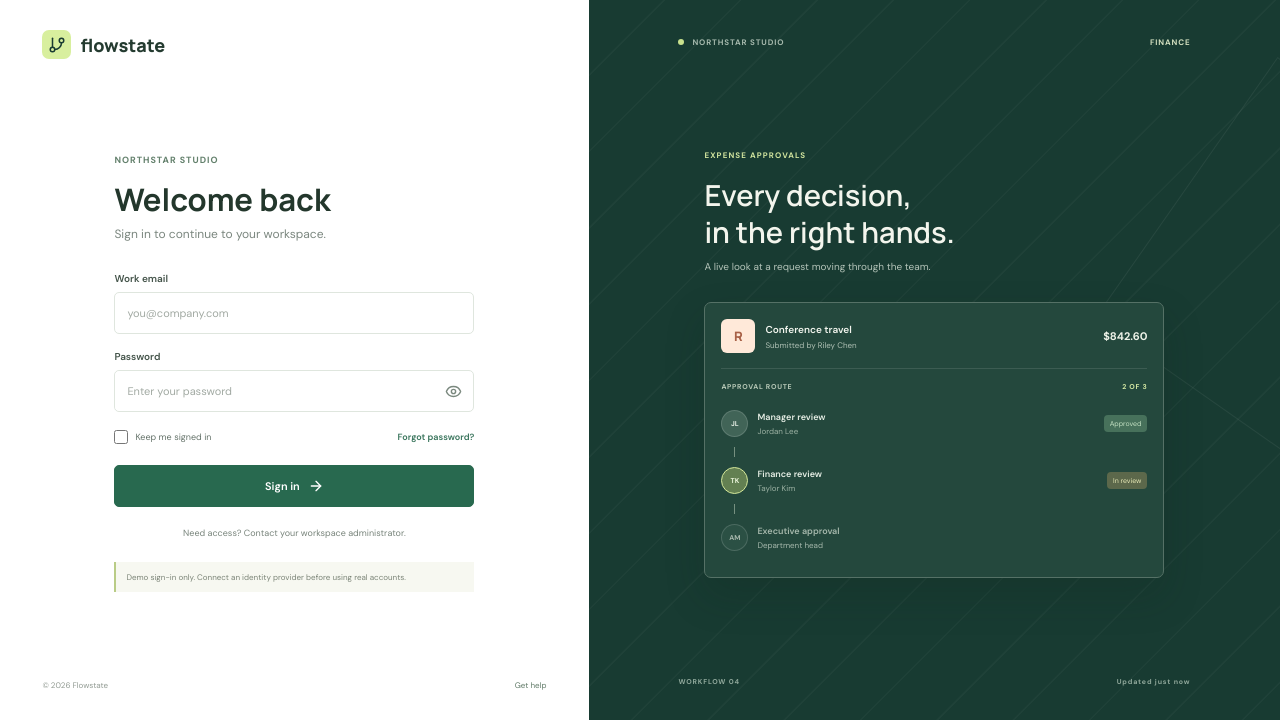
Test: login screen › toggles password visibility
The width and height of the screenshot is (1280, 720).
Click the button named "Show password": x=454, y=391 [434, 371, 473, 411]
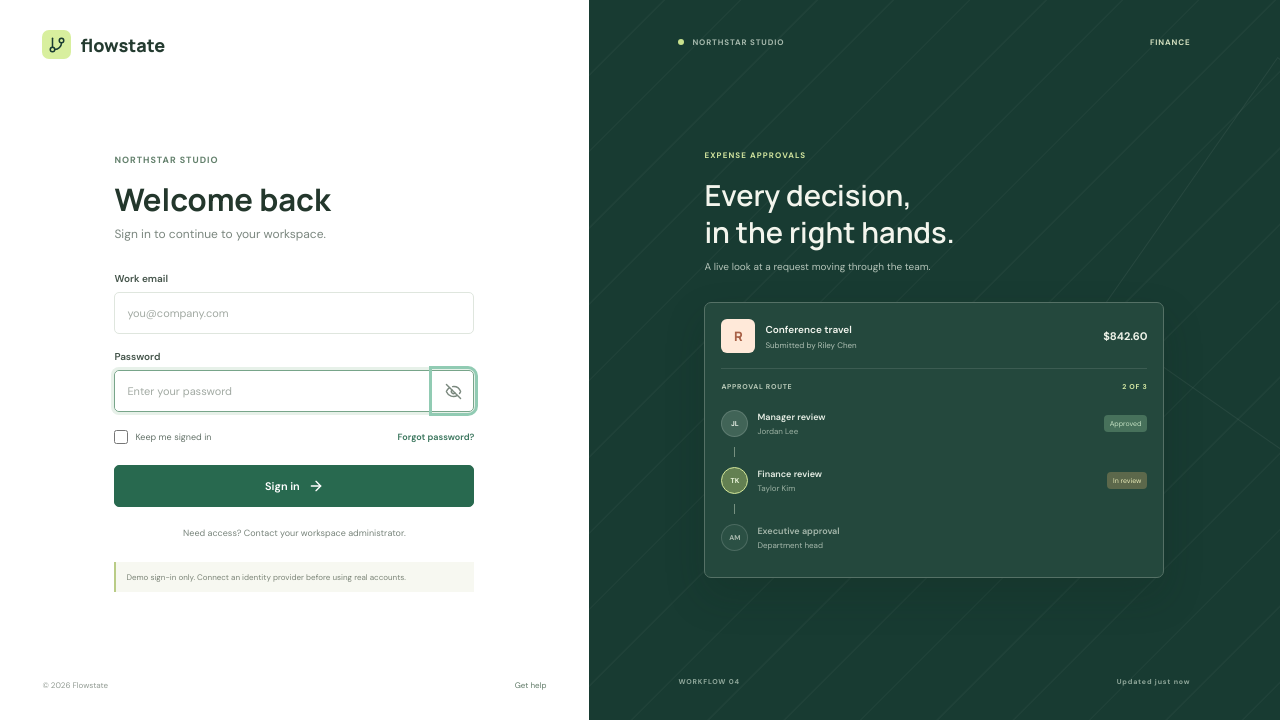
Check: the button named "Hide password" is shown, box [434, 371, 473, 411]
